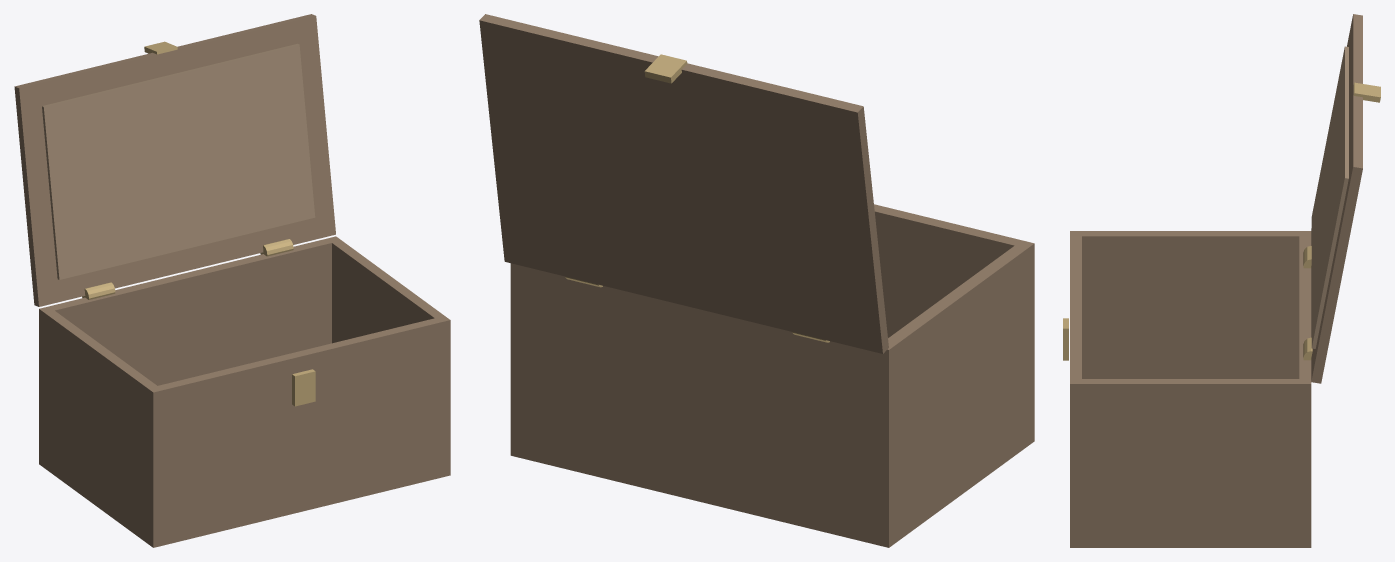
File: PR-CHEST.glb
3 views of the same model, side by side, from view 1: azimuth 30°, elevation 25°; view 2: azimuth 150°, elevation 25°; view 3: azimuth 270°, elevation 25° (orthographic). The views are drawn at different scales.
Visible parts, largest first — view 1: lid_inner_frame, front_wall, rear_wall, lid_board, left_wall, right_wall, chest_base, front_latch; view 2: lid_board, rear_wall, left_wall, front_wall, chest_base, lid_latch; view 3: right_wall, left_wall, lid_inner_frame, lid_board, front_wall, rear_wall, chest_base, lid_latch.
Boxes of the visible parts, left/top/right/bottom form: lid_inner_frame: left=42, top=43, right=315, bottom=279; front_wall: left=147, top=316, right=450, bottom=537; rear_wall: left=39, top=236, right=341, bottom=457; lid_board: left=14, top=14, right=335, bottom=306; left_wall: left=44, top=310, right=156, bottom=532; right_wall: left=332, top=240, right=444, bottom=343; chest_base: left=39, top=454, right=450, bottom=547; front_latch: left=292, top=369, right=315, bottom=406; lid_board: left=479, top=14, right=888, bottom=353; rear_wall: left=510, top=263, right=896, bottom=534; left_wall: left=888, top=245, right=1027, bottom=528; front_wall: left=874, top=204, right=1034, bottom=433; chest_base: left=510, top=428, right=1034, bottom=547; lid_latch: left=644, top=54, right=687, bottom=83; right_wall: left=1082, top=379, right=1299, bottom=536; left_wall: left=1082, top=231, right=1299, bottom=378; lid_inner_frame: left=1311, top=46, right=1348, bottom=348; lid_board: left=1311, top=14, right=1362, bottom=383; front_wall: left=1070, top=231, right=1081, bottom=536; rear_wall: left=1299, top=231, right=1311, bottom=536; chest_base: left=1070, top=537, right=1311, bottom=547; lid_latch: left=1353, top=82, right=1380, bottom=102.
Size of the model in its own units: 0.36 by 0.4212 by 0.3163.
